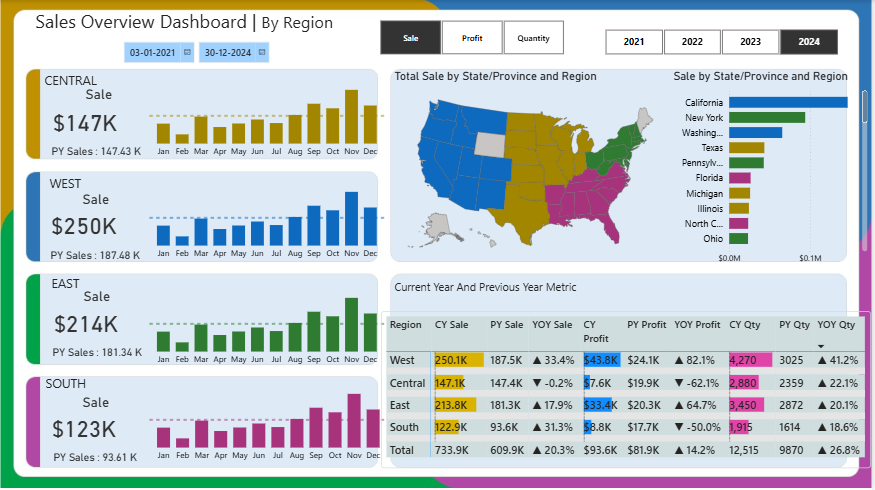

Layout of this report page (visuals, bound fields, positions):
{"tool":"powerbi","page":{"name":"Page 1","canvas":[1280,720],"ordinal":0},"visuals":[{"type":"slicer","fields":{"Values":["DateTable.year"]},"box":[864,36.7,390.9,50],"z":0},{"type":"advanceCardE03760C5AB684758B56AA29F9E6C257B","fields":{"mainMeasure":["Sales Data.Total Sale"]},"box":[48.5,155.7,152.9,50.4],"z":0,"group":"g1"},{"type":"advanceCardE03760C5AB684758B56AA29F9E6C257B","fields":{"mainMeasure":["Sales Data.Total Sale"]},"box":[47,307.1,152.9,50.4],"z":0,"group":"g2"},{"type":"advanceCardE03760C5AB684758B56AA29F9E6C257B","fields":{"mainMeasure":["Sales Data.Total Sale"]},"box":[50,451.1,152.9,50.4],"z":0,"group":"g3"},{"type":"advanceCardE03760C5AB684758B56AA29F9E6C257B","fields":{"mainMeasure":["Sales Data.Total Sale"]},"box":[47,605.4,152.9,50.4],"z":0,"group":"g4"},{"type":"slicer","fields":{"Values":["Parameter.Parameter"]},"box":[533.4,23.5,318.9,63.2],"z":1000},{"type":"textbox","box":[59.5,99.9,116.1,44.1],"z":1000,"group":"g1"},{"type":"textbox","box":[67.5,250.8,116.1,44.1],"z":1000,"group":"g2"},{"type":"textbox","box":[70.6,398.6,98.4,35.3],"z":1000,"group":"g3"},{"type":"textbox","box":[61.7,545.7,116.1,44.1],"z":1000,"group":"g4"},{"type":"group","id":"g1","title":"Group 1","box":[48.5,99.9,186.5,138.1],"z":2000},{"type":"advanceCardE03760C5AB684758B56AA29F9E6C257B","fields":{"mainMeasure":["Sales Data.PY Sale"]},"box":[48.5,206.1,186.5,31.9],"z":2000,"group":"g1"},{"type":"advanceCardE03760C5AB684758B56AA29F9E6C257B","fields":{"mainMeasure":["Sales Data.PY Sale"]},"box":[47,357.5,186.5,31.9],"z":2000,"group":"g2"},{"type":"advanceCardE03760C5AB684758B56AA29F9E6C257B","fields":{"mainMeasure":["Sales Data.PY Sale"]},"box":[50,501.5,186.5,31.9],"z":2000,"group":"g3"},{"type":"advanceCardE03760C5AB684758B56AA29F9E6C257B","fields":{"mainMeasure":["Sales Data.PY Sale"]},"box":[47,655.8,186.5,31.9],"z":2000,"group":"g4"},{"type":"advanceCardE03760C5AB684758B56AA29F9E6C257B","fields":{"mainMeasure":["Sales Data.Dynamic Title"]},"box":[94.8,122,99.9,33.8],"z":3000,"group":"g1"},{"type":"group","id":"g2","title":"Group 1","box":[47,250.8,186.5,138.6],"z":3000},{"type":"advanceCardE03760C5AB684758B56AA29F9E6C257B","fields":{"mainMeasure":["Sales Data.Dynamic Title"]},"box":[95.5,273.2,91.1,38.2],"z":3000,"group":"g2"},{"type":"advanceCardE03760C5AB684758B56AA29F9E6C257B","fields":{"mainMeasure":["Sales Data.Dynamic Title"]},"box":[94.1,418.3,97,35.3],"z":3000,"group":"g3"},{"type":"advanceCardE03760C5AB684758B56AA29F9E6C257B","fields":{"mainMeasure":["Sales Data.Dynamic Title"]},"box":[95.5,574,91.1,35.3],"z":3000,"group":"g4"},{"type":"group","id":"g3","title":"Group 1","box":[50,398.6,186.5,134.9],"z":4000},{"type":"group","id":"g4","title":"Group 1","box":[47,545.7,186.5,142],"z":5000},{"type":"clusteredColumnChart","fields":{"Y":["Sales Data.Total Sale"],"Category":["DateTable.month"]},"box":[214.5,97,355.6,144],"z":6000},{"type":"clusteredColumnChart","fields":{"Y":["Sales Data.Total Sale"],"Category":["DateTable.month"]},"box":[214.5,543.7,360,144],"z":7000},{"type":"clusteredColumnChart","fields":{"Y":["Sales Data.Total Sale"],"Category":["DateTable.month"]},"box":[214.5,246.9,355.6,144],"z":8000},{"type":"clusteredColumnChart","fields":{"Y":["Sales Data.Total Sale"],"Category":["DateTable.month"]},"box":[214.5,402.6,355.6,144],"z":9000},{"type":"textbox","box":[47,7.3,496.7,58.8],"z":10000},{"type":"map","fields":{"Size":["Sales Data.Total Sale"],"Category":["Sales Data.State/Province"],"Series":["Sales Data.Region"]},"box":[574.5,101.4,410,288],"z":11000},{"type":"barChart","fields":{"Y":["Sales Data.Total Sale"],"Category":["Sales Data.State/Province"],"Series":["Sales Data.Region"]},"box":[984.5,101.4,295.3,296.8],"z":12000},{"type":"textbox","box":[574.5,405.6,360,30.9],"z":13000},{"type":"pivotTable","fields":{"Rows":["Sales Data.Region"],"Values":["Sales Data.CY Sale","Sales Data.PY Sale","Sales Data.YOY Sale","Sales Data.CY Profit","Sales Data.PY Profit","Sales Data.YOY Profit","Sales Data.CY Quantity","Sales Data.PY Quantity","Sales Data.YOY Quantity"]},"box":[559.8,457,720,230.7],"z":14000},{"type":"slicer","fields":{"Values":["Sales Data.Order Date"]},"box":[169,51.4,255.7,45.6],"z":15000}]}

Visuals, with their boxes in screenshot pixels (x1, y1, x2, y2), scaled from the page's 1280x720 canvas onto the 875x490 screenshot:
slicer - DateTable.year: pyautogui.locateOnScreen(591, 25, 858, 59)
advanceCardE03760C5AB684758B56AA29F9E6C257B - Sales Data.Total Sale: pyautogui.locateOnScreen(33, 106, 138, 140)
advanceCardE03760C5AB684758B56AA29F9E6C257B - Sales Data.Total Sale: pyautogui.locateOnScreen(32, 209, 137, 243)
advanceCardE03760C5AB684758B56AA29F9E6C257B - Sales Data.Total Sale: pyautogui.locateOnScreen(34, 307, 139, 341)
advanceCardE03760C5AB684758B56AA29F9E6C257B - Sales Data.Total Sale: pyautogui.locateOnScreen(32, 412, 137, 446)
slicer - Parameter.Parameter: pyautogui.locateOnScreen(365, 16, 583, 59)
textbox: pyautogui.locateOnScreen(41, 68, 120, 98)
textbox: pyautogui.locateOnScreen(46, 171, 126, 201)
textbox: pyautogui.locateOnScreen(48, 271, 116, 295)
textbox: pyautogui.locateOnScreen(42, 371, 122, 401)
"Group 1" group: pyautogui.locateOnScreen(33, 68, 161, 162)
advanceCardE03760C5AB684758B56AA29F9E6C257B - Sales Data.PY Sale: pyautogui.locateOnScreen(33, 140, 161, 162)
advanceCardE03760C5AB684758B56AA29F9E6C257B - Sales Data.PY Sale: pyautogui.locateOnScreen(32, 243, 160, 265)
advanceCardE03760C5AB684758B56AA29F9E6C257B - Sales Data.PY Sale: pyautogui.locateOnScreen(34, 341, 162, 363)
advanceCardE03760C5AB684758B56AA29F9E6C257B - Sales Data.PY Sale: pyautogui.locateOnScreen(32, 446, 160, 468)
advanceCardE03760C5AB684758B56AA29F9E6C257B - Sales Data.Dynamic Title: pyautogui.locateOnScreen(65, 83, 133, 106)
"Group 1" group: pyautogui.locateOnScreen(32, 171, 160, 265)
advanceCardE03760C5AB684758B56AA29F9E6C257B - Sales Data.Dynamic Title: pyautogui.locateOnScreen(65, 186, 128, 212)
advanceCardE03760C5AB684758B56AA29F9E6C257B - Sales Data.Dynamic Title: pyautogui.locateOnScreen(64, 285, 131, 309)
advanceCardE03760C5AB684758B56AA29F9E6C257B - Sales Data.Dynamic Title: pyautogui.locateOnScreen(65, 391, 128, 415)
"Group 1" group: pyautogui.locateOnScreen(34, 271, 162, 363)
"Group 1" group: pyautogui.locateOnScreen(32, 371, 160, 468)
clusteredColumnChart - Sales Data.Total Sale x DateTable.month: pyautogui.locateOnScreen(147, 66, 390, 164)
clusteredColumnChart - Sales Data.Total Sale x DateTable.month: pyautogui.locateOnScreen(147, 370, 393, 468)
clusteredColumnChart - Sales Data.Total Sale x DateTable.month: pyautogui.locateOnScreen(147, 168, 390, 266)
clusteredColumnChart - Sales Data.Total Sale x DateTable.month: pyautogui.locateOnScreen(147, 274, 390, 372)
textbox: pyautogui.locateOnScreen(32, 5, 372, 45)
map - Sales Data.Total Sale x Sales Data.State/Province: pyautogui.locateOnScreen(393, 69, 673, 265)
barChart - Sales Data.Total Sale x Sales Data.State/Province: pyautogui.locateOnScreen(673, 69, 874, 271)
textbox: pyautogui.locateOnScreen(393, 276, 639, 297)
pivotTable - Sales Data.Region x Sales Data.CY Sale: pyautogui.locateOnScreen(383, 311, 874, 468)
slicer - Sales Data.Order Date: pyautogui.locateOnScreen(116, 35, 290, 66)
